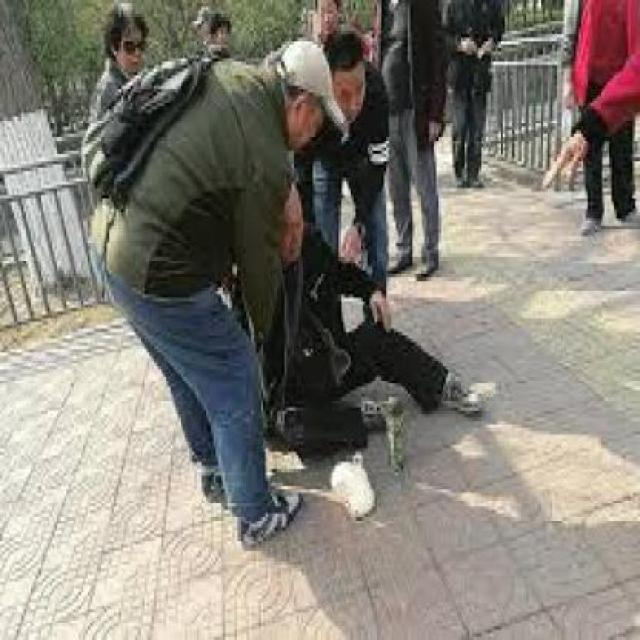fall: (248, 185, 501, 500)
